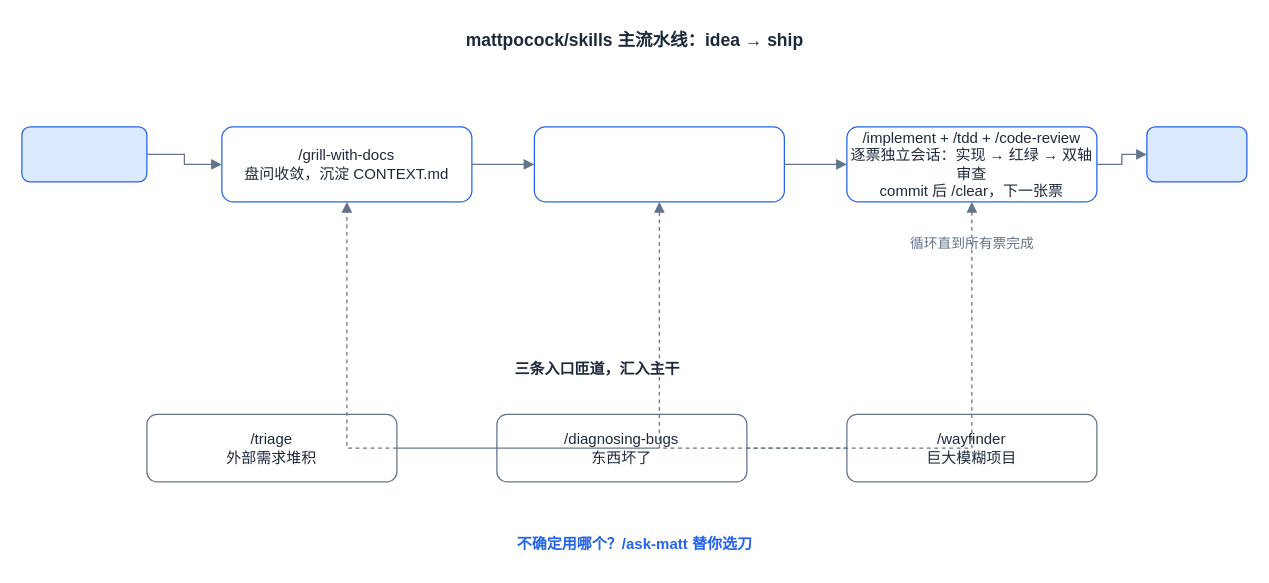
Image size: 1269x583. Some labels were removed from this diagram. The centre of each missing label's shape, as x and y in pixels:
"/to-spec + /to-tickets 落盘规格，按纵向切片拆票 （到这可以 /clear）" belongs at [658,164].
"idea" belongs at [84,154].
"ship" belongs at [1196,154].
